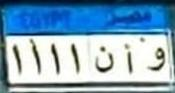1: (65, 40, 85, 75), (28, 38, 43, 75), (10, 43, 26, 77), (47, 41, 62, 75)
alif: (122, 39, 135, 76)
noon: (94, 44, 115, 74)
waw: (145, 42, 167, 75)
